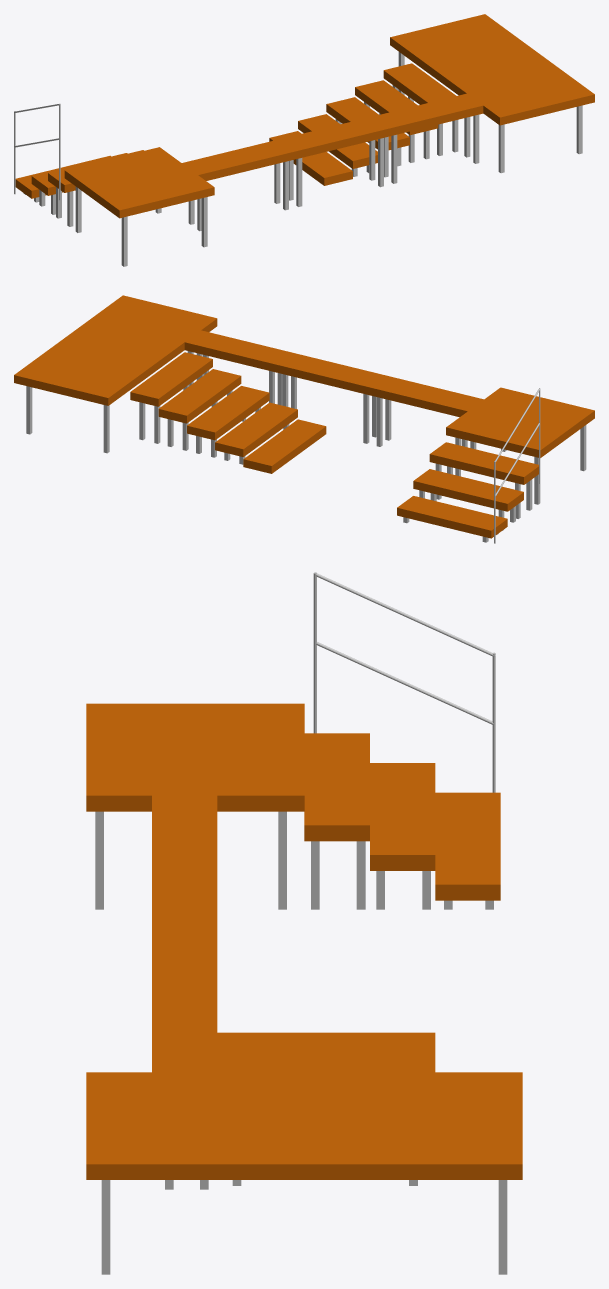
File: staircases_koroibot_hr.obj
3 renders of one model, top to bottom at view 1: azimuth 30°, elevation 25°; view 2: azimuth 150°, elevation 25°; view 3: azimuth 270°, elevation 25°, orthographic. The views are drawn at different scales.
Parts seen in each view (by area): view 1: node.005_Platform-mesh, node.009_Little-platform-mesh, node.007_Stair-mesh, node.006_Stair-mesh, node.008_Stair-mesh, node.004_Stair-mesh, node.003_Stair-mesh, node_Stair-mesh, node.001_Stair-mesh, node.002_Stair-mesh, node.011_Stair-mesh, node.010_Stair-mesh (+3 smaller); view 2: node.005_Platform-mesh, node.009_Little-platform-mesh, node.011_Stair-mesh, node.012_Stair-mesh, node.010_Stair-mesh, node.007_Stair-mesh, node.006_Stair-mesh, node.008_Stair-mesh, node.003_Stair-mesh, node_Stair-mesh, node.004_Stair-mesh, node.002_Stair-mesh (+3 smaller); view 3: node.005_Platform-mesh, node.009_Little-platform-mesh, node.011_Stair-mesh, node.010_Stair-mesh, node.012_Stair-mesh, node.008_Stair-mesh, node.006_Stair-mesh, node.007_Stair-mesh, node.004_Stair-mesh, node.003_Stair-mesh, node.001_Stair-mesh, node_Stair-mesh (+5 smaller).
Boxes of the visible parts, box(x1,y1,x2,y2) form: node.005_Platform-mesh: box(390, 14, 594, 125); node.009_Little-platform-mesh: box(64, 147, 214, 218); node.007_Stair-mesh: box(277, 116, 388, 159); node.006_Stair-mesh: box(372, 93, 483, 136); node.008_Stair-mesh: box(182, 140, 293, 180); node.004_Stair-mesh: box(383, 63, 456, 104); node.003_Stair-mesh: box(355, 80, 438, 135); node_Stair-mesh: box(269, 131, 352, 185); node.001_Stair-mesh: box(298, 114, 377, 168); node.002_Stair-mesh: box(326, 97, 409, 150); node.011_Stair-mesh: box(15, 155, 110, 198); node.010_Stair-mesh: box(48, 150, 143, 192); node.005_Platform-mesh: box(14, 295, 217, 405); node.009_Little-platform-mesh: box(446, 387, 594, 457); node.011_Stair-mesh: box(397, 496, 507, 538); node.012_Stair-mesh: box(413, 469, 523, 511); node.010_Stair-mesh: box(429, 442, 538, 484); node.007_Stair-mesh: box(279, 353, 389, 396); node.006_Stair-mesh: box(184, 330, 294, 372); node.008_Stair-mesh: box(373, 376, 483, 417); node.003_Stair-mesh: box(158, 369, 241, 423); node_Stair-mesh: box(243, 419, 326, 473); node.004_Stair-mesh: box(130, 352, 212, 406); node.002_Stair-mesh: box(187, 386, 269, 440); node.005_Platform-mesh: box(86, 1072, 522, 1179); node.009_Little-platform-mesh: box(86, 703, 304, 811); node.011_Stair-mesh: box(435, 792, 500, 900); node.010_Stair-mesh: box(304, 733, 369, 841); node.012_Stair-mesh: box(370, 763, 435, 870); node.008_Stair-mesh: box(152, 795, 217, 887); node.006_Stair-mesh: box(152, 980, 217, 1072); node.007_Stair-mesh: box(152, 888, 217, 979); node.004_Stair-mesh: box(217, 1064, 435, 1072); node.003_Stair-mesh: box(217, 1056, 435, 1064); node.001_Stair-mesh: box(217, 1040, 435, 1048); node_Stair-mesh: box(217, 1032, 435, 1040).
Bounding box in the file's own units: 5.03 × 1.25 × 2.
